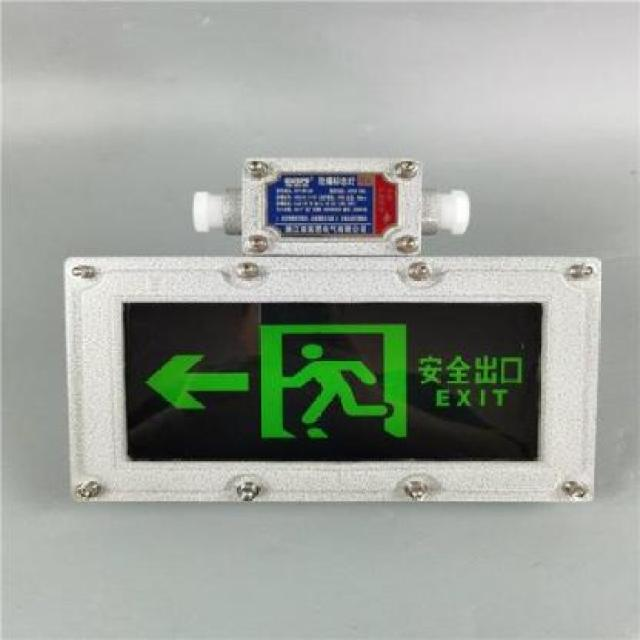exit_sign: (121, 289, 544, 465)
